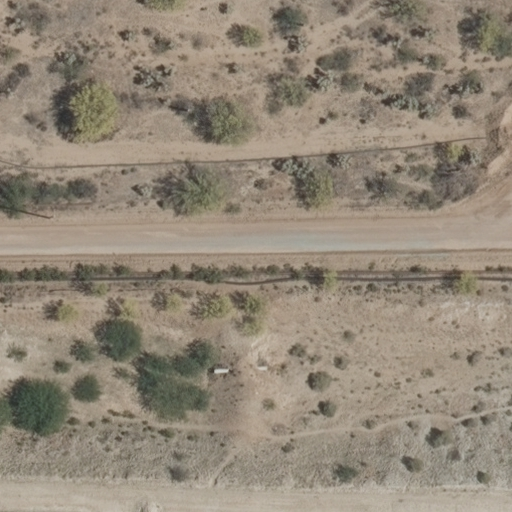DT: (39, 198, 64, 222)
